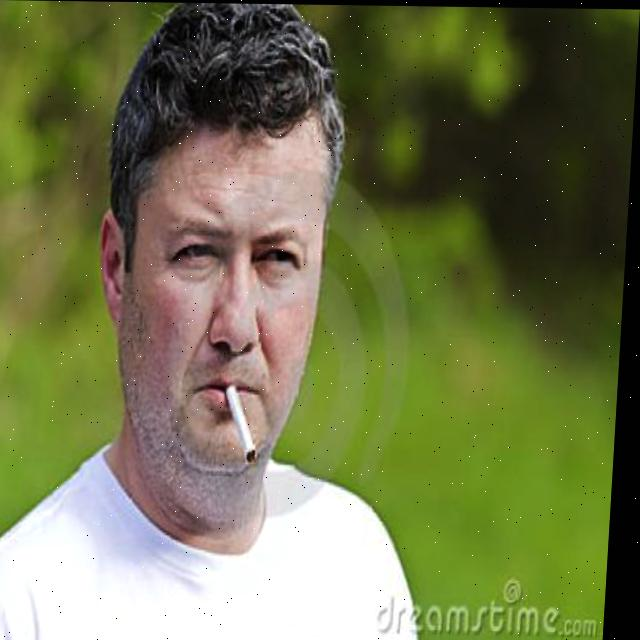cigarette: (223, 384, 265, 466)
